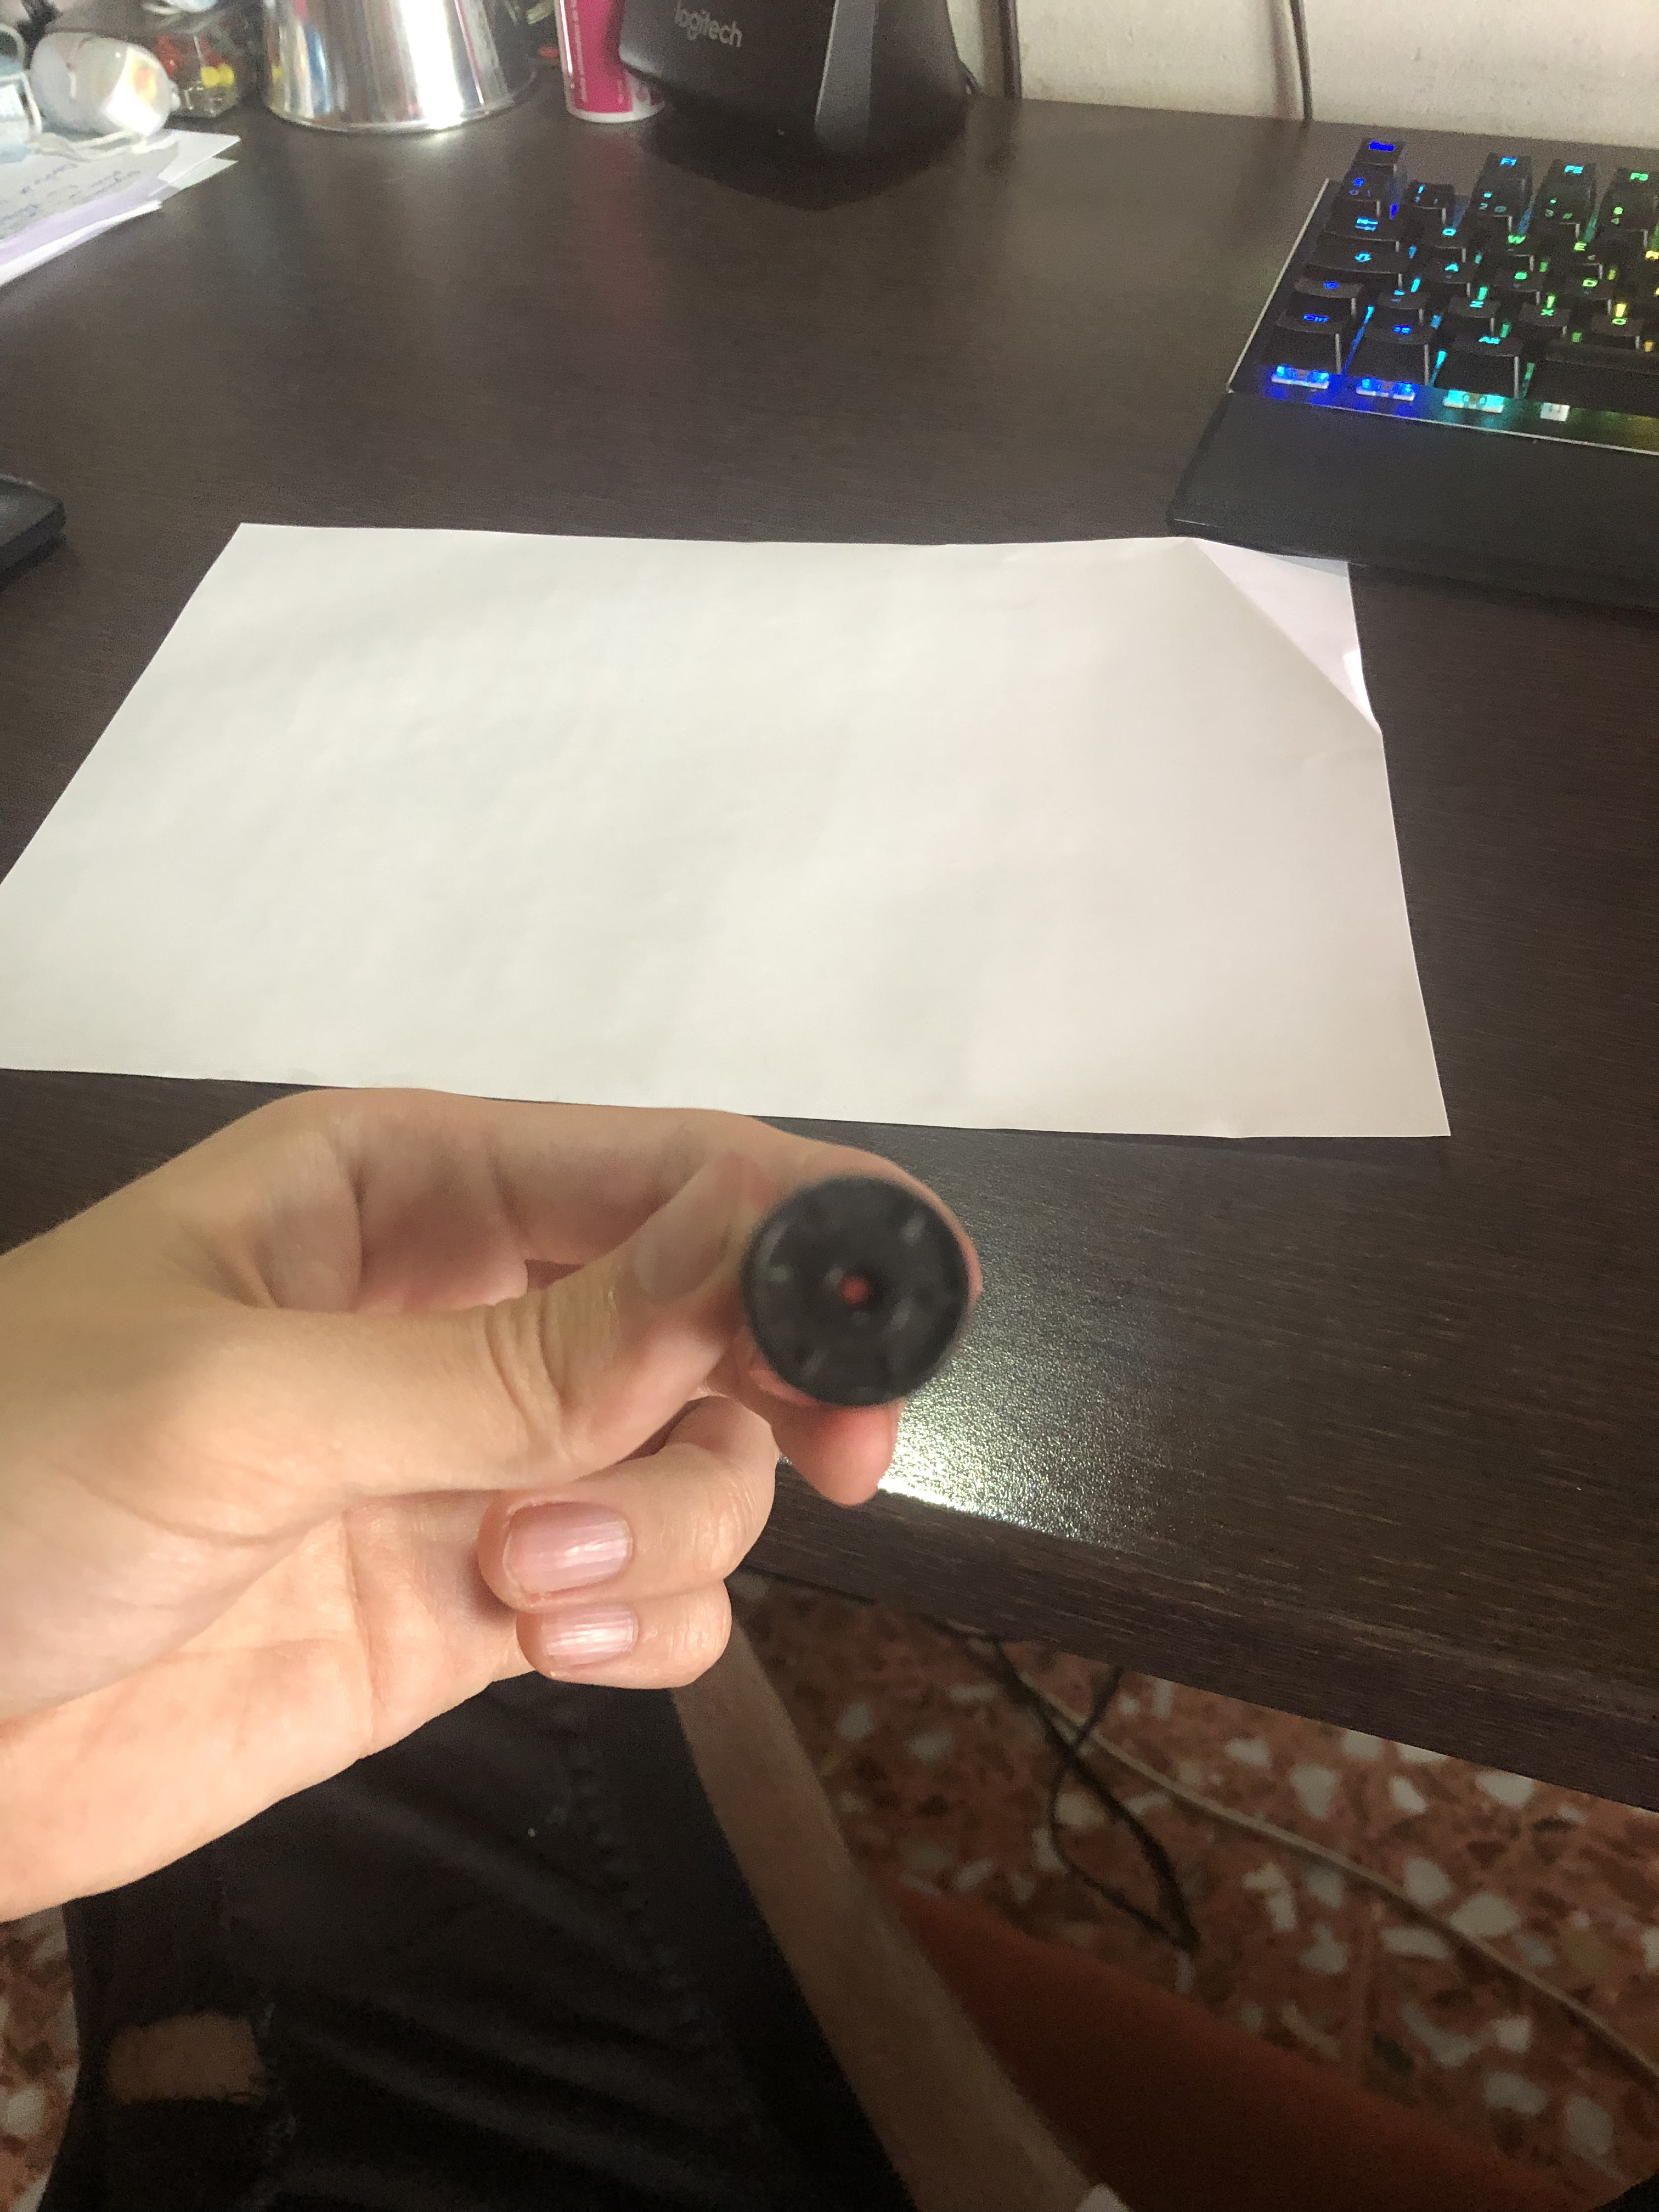Mechero: (721, 1157, 999, 1432)
